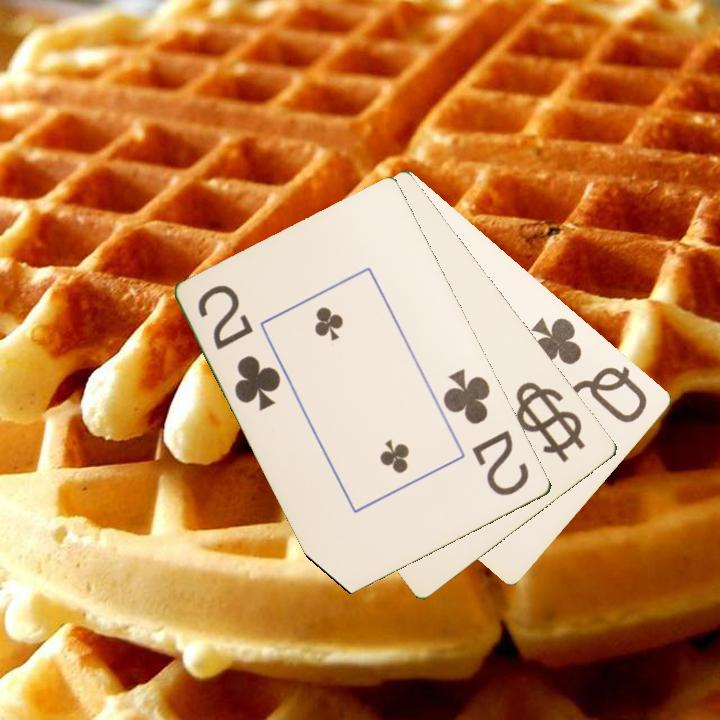2c: (440, 365, 533, 499), (194, 281, 285, 414)
JK: (518, 384, 580, 450)
Qc: (528, 313, 651, 426)
